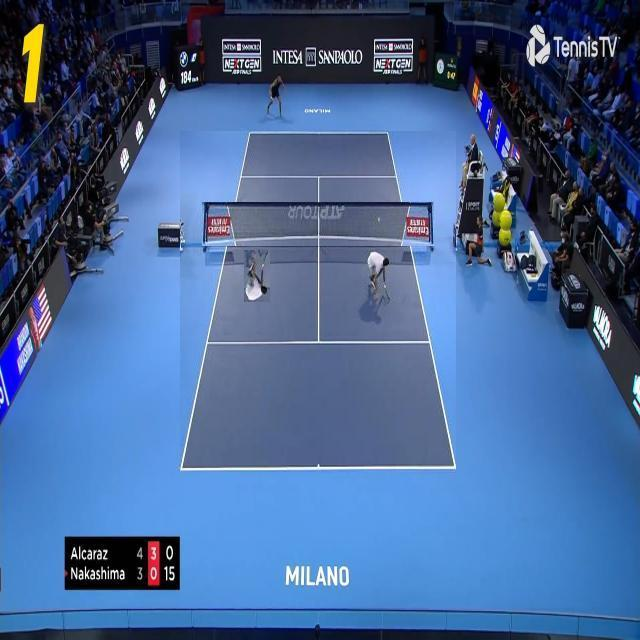court: (180, 131, 456, 472)
net: (202, 202, 434, 246)
player: (244, 250, 270, 302)
